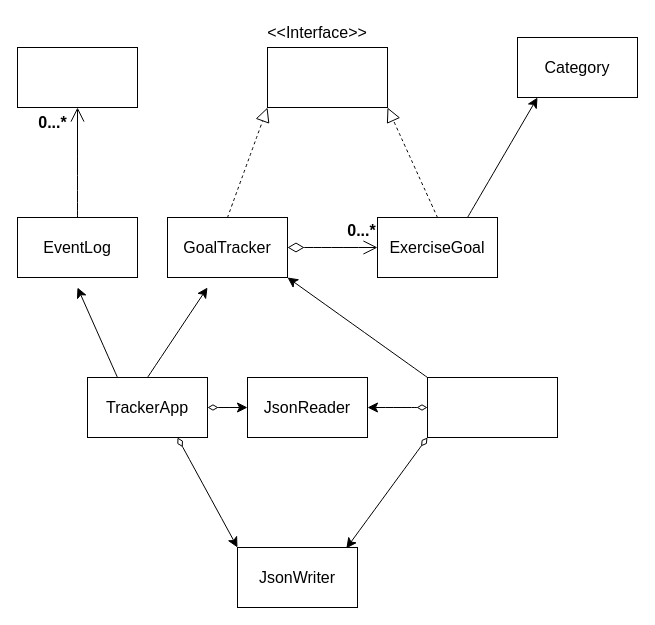
The diagram is 655 pixels wide and 625 high, and some of its shapes have lost their labels. Each missing label, with the centre of its shape:
"Event" belongs at pixel 77 77.
"FitnessTrackerUI" belongs at pixel 492 407.
"Writable" belongs at pixel 327 77.
